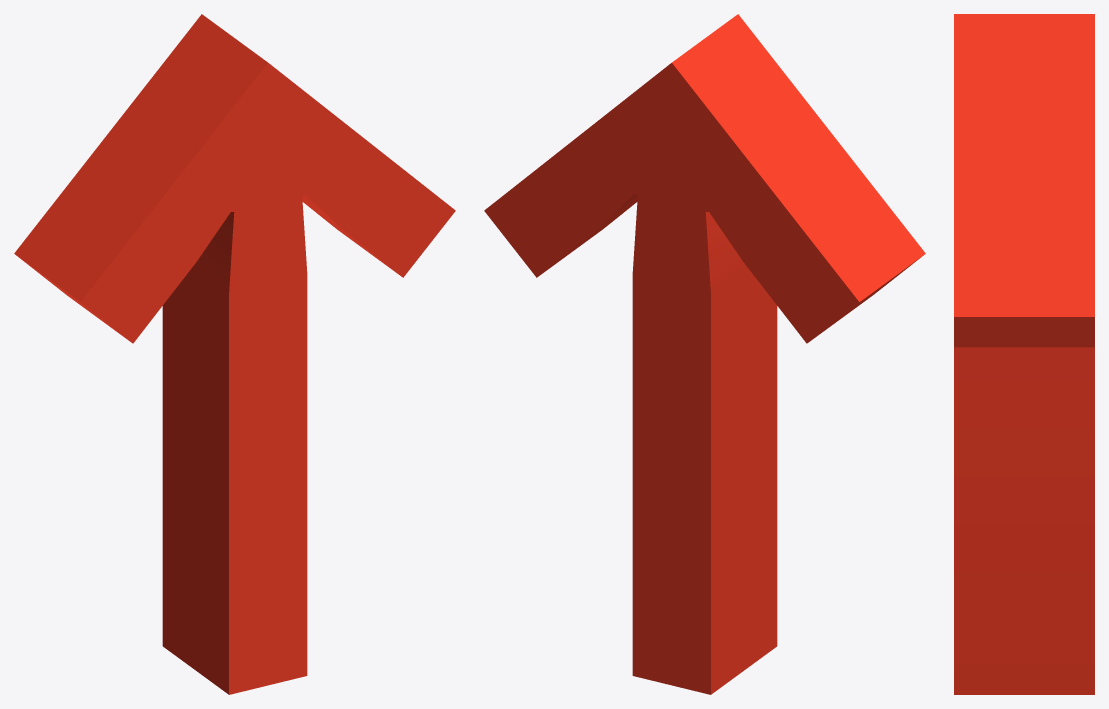
The model's file is arrow.71b8415f.gltf.
The picture shows the model from 3 angles, left to right: view 1: azimuth 30°, elevation 25°; view 2: azimuth 150°, elevation 25°; view 3: azimuth 270°, elevation 25°; orthographic projection. The views are drawn at different scales.
Parts seen in each view (by area): view 1: Shape 0; view 2: Shape 0; view 3: Shape 0.
Boxes of the visible parts, <box> form: Shape 0: <box>14,14,455,694</box>; Shape 0: <box>484,14,925,694</box>; Shape 0: <box>954,14,1094,694</box>.
Bounding box in the file's own units: 0.6528 × 1.03 × 0.2.
